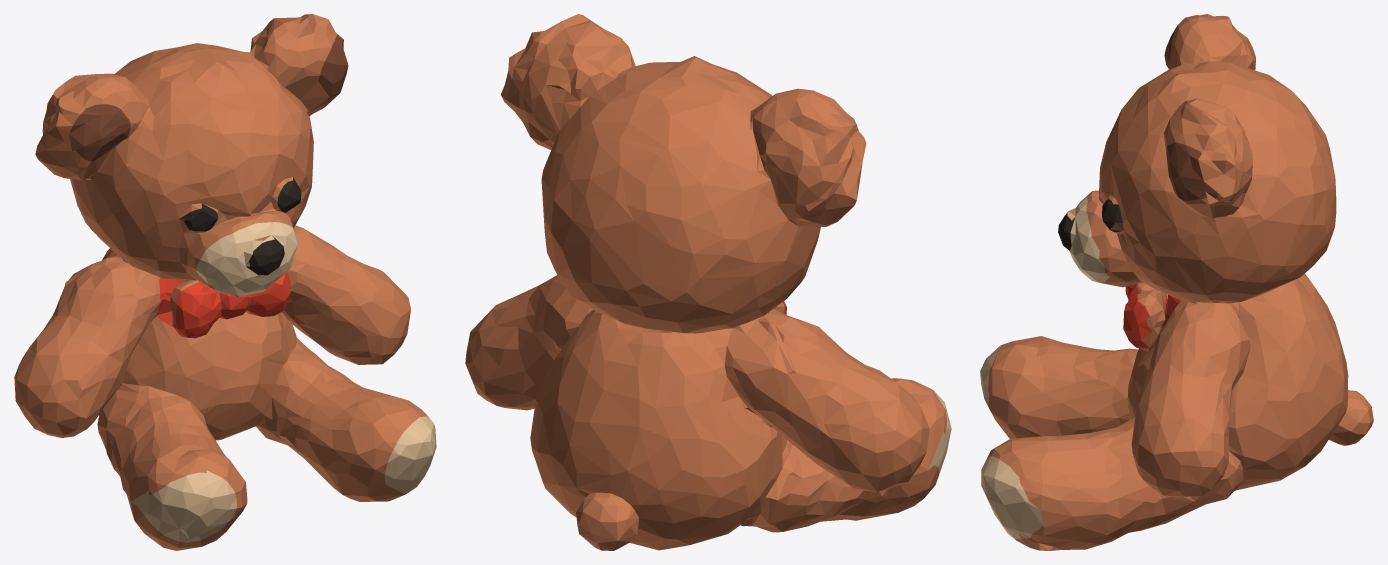
The model's file is nella.glb.
The picture shows the model from 3 angles, left to right: view 1: azimuth 30°, elevation 25°; view 2: azimuth 150°, elevation 25°; view 3: azimuth 270°, elevation 25°; orthographic projection. The views are drawn at different scales.
Parts seen in each view (by area): view 1: Bear; view 2: Bear; view 3: Bear.
Boxes of the visible parts, bbox=[...] form: Bear: bbox=[14, 14, 436, 550]; Bear: bbox=[465, 14, 951, 550]; Bear: bbox=[980, 14, 1373, 550].
Bounding box in the file's own units: 1.85 × 1.99 × 1.61.
